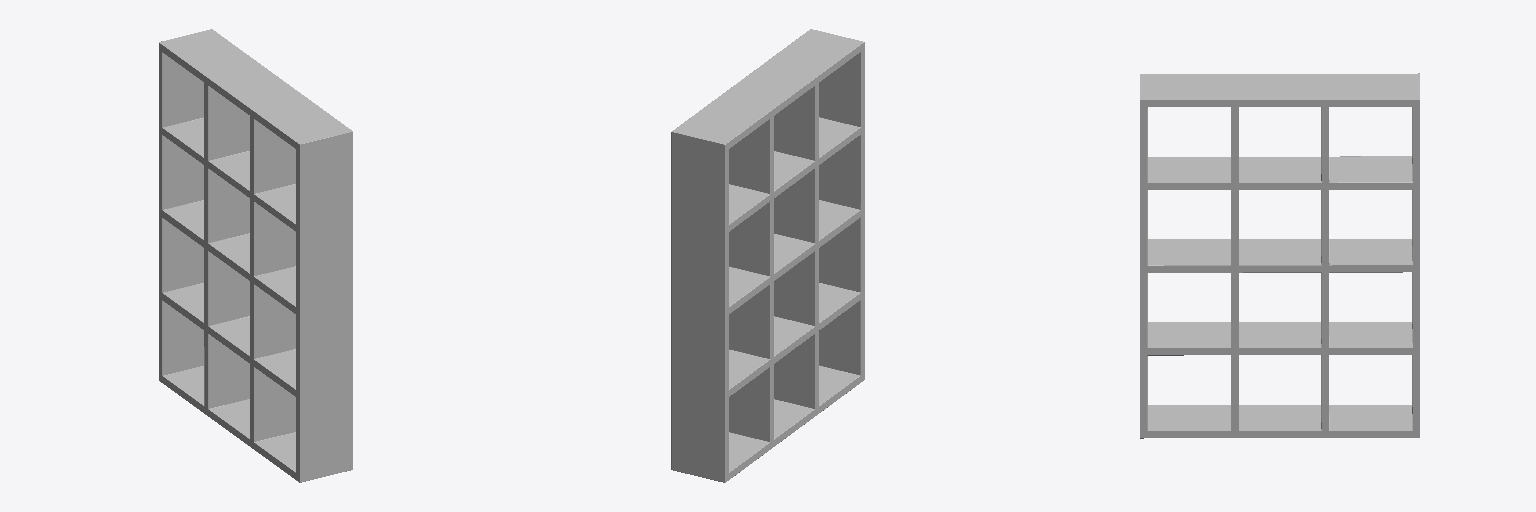
File: bookcase.obj
3 views of the same model, side by side, from view 1: azimuth 30°, elevation 25°; view 2: azimuth 150°, elevation 25°; view 3: azimuth 270°, elevation 25° (orthographic).
Visible parts, largest first — view 1: 20357_Cube_Bookcase_v1_Textured; view 2: 20357_Cube_Bookcase_v1_Textured; view 3: 20357_Cube_Bookcase_v1_Textured.
Part boxes in pixels (bbox=[...]): 20357_Cube_Bookcase_v1_Textured: bbox=[159, 29, 352, 482]; 20357_Cube_Bookcase_v1_Textured: bbox=[671, 29, 864, 482]; 20357_Cube_Bookcase_v1_Textured: bbox=[1140, 73, 1419, 438].
Size of the model in its own units: 1.9 by 11.18 by 8.41.